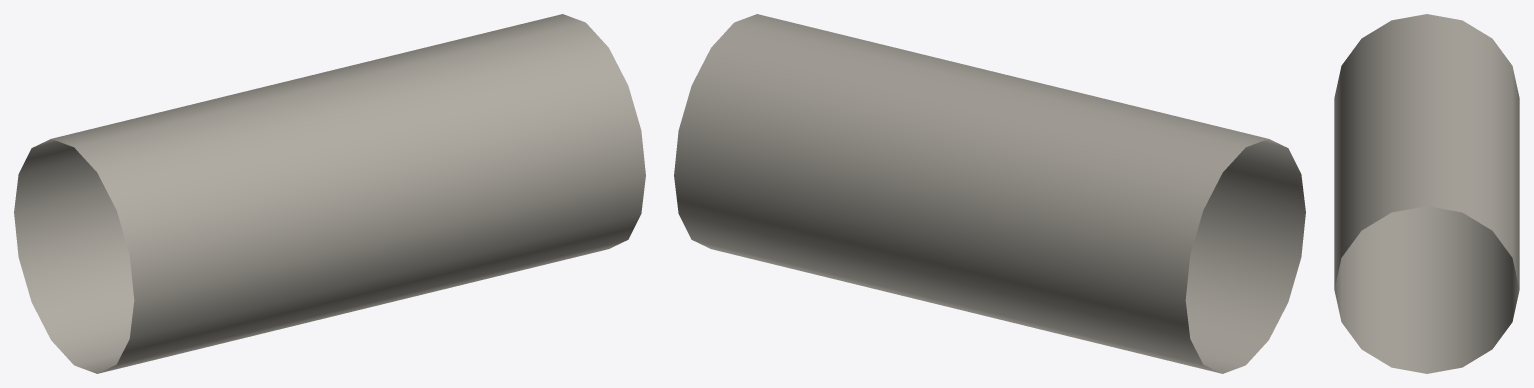
Rendered from pipe_connector_short.fbx.
The picture shows the model from 3 angles, left to right: view 1: azimuth 30°, elevation 25°; view 2: azimuth 150°, elevation 25°; view 3: azimuth 270°, elevation 25°; orthographic projection. The views are drawn at different scales.
Visible parts, largest first — view 1: pipe_connector_short; view 2: pipe_connector_short; view 3: pipe_connector_short.
Part boxes in pixels (<box>): pipe_connector_short: <box>14,14,645,373</box>; pipe_connector_short: <box>674,14,1305,373</box>; pipe_connector_short: <box>1334,14,1519,373</box>.
Bounding box in the file's own units: 107 × 43.45 × 43.45.
